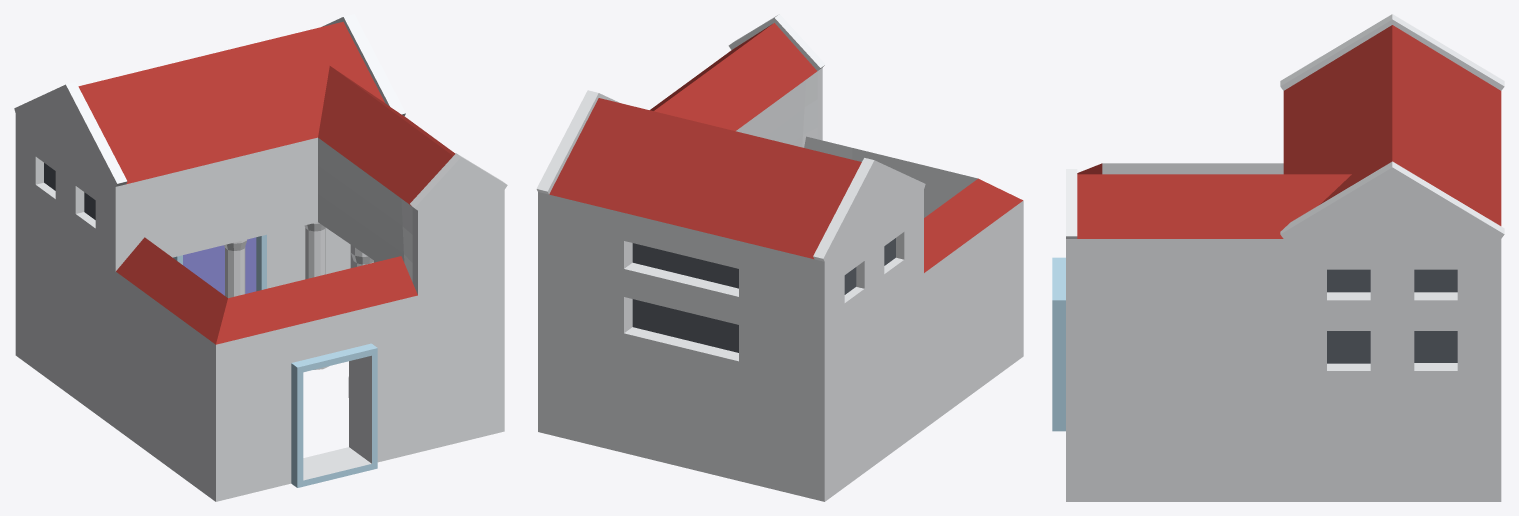
File: Palace.fbx
3 renders of one model, left to right at view 1: azimuth 30°, elevation 25°; view 2: azimuth 150°, elevation 25°; view 3: azimuth 270°, elevation 25°, orthographic. The views are drawn at different scales.
Visible parts, largest first — view 1: Palace; view 2: Palace; view 3: Palace.
Boxes of the visible parts, x1,y1,x2,y2 form: Palace: (14, 14, 507, 501); Palace: (536, 14, 1023, 501); Palace: (1052, 14, 1504, 501).
Size of the model in its own units: 1112 by 1119 by 1371.
